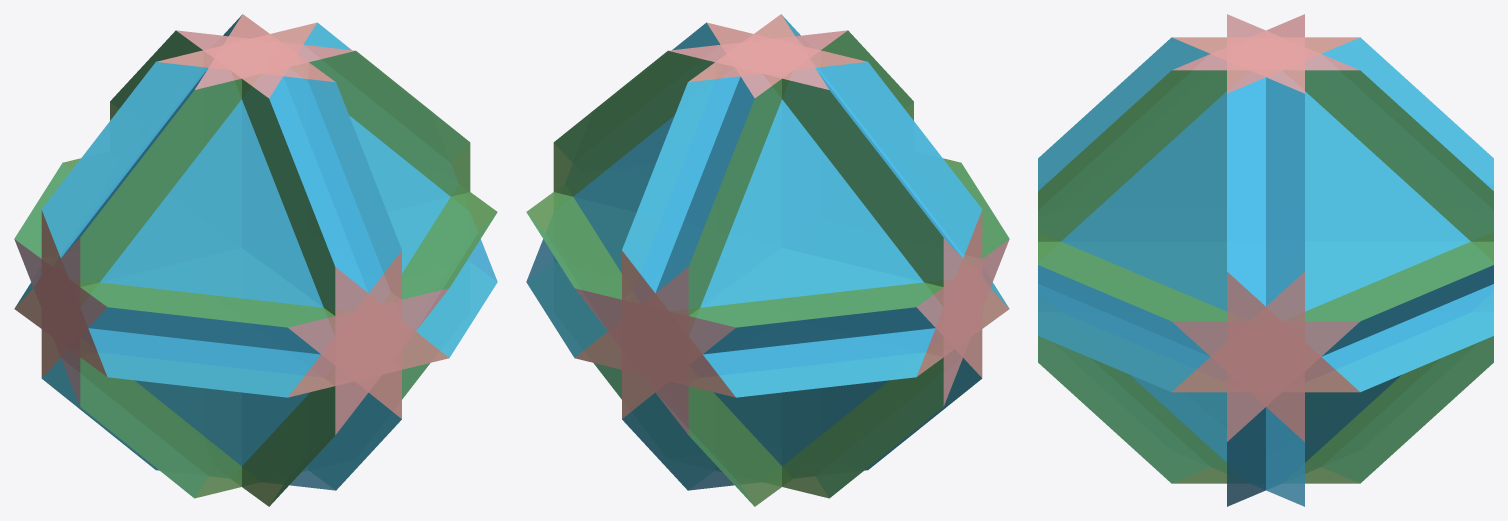
Rendered from CubitruncatedCuboctahedron.obj.
3 renders of one model, left to right at view 1: azimuth 30°, elevation 25°; view 2: azimuth 150°, elevation 25°; view 3: azimuth 270°, elevation 25°, orthographic.
Size of the model in its own units: 2.41 by 2.41 by 2.41.
